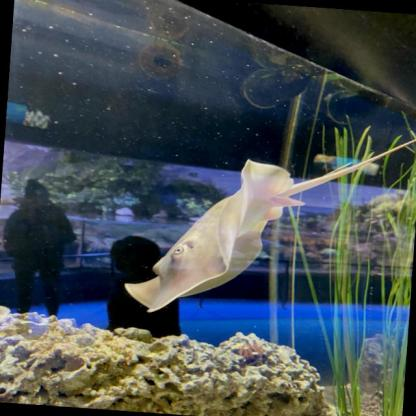stingray: (123, 144, 308, 323)
